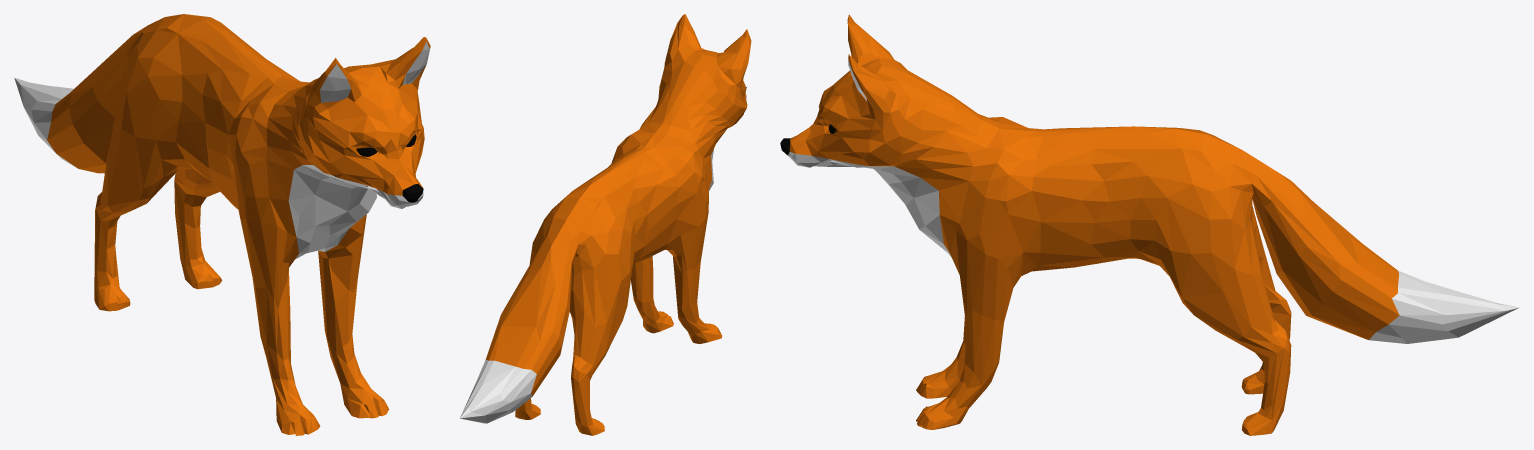
The model's file is Fox.fbx.
3 renders of one model, left to right at view 1: azimuth 30°, elevation 25°; view 2: azimuth 150°, elevation 25°; view 3: azimuth 270°, elevation 25°, orthographic. The views are drawn at different scales.
Parts seen in each view (by area): view 1: Fox; view 2: Fox; view 3: Fox.
Part boxes in pixels (x1,y1,x2,y2): Fox: (14,14,430,435); Fox: (459,14,751,435); Fox: (780,14,1519,435).
Bounding box in the file's own units: 1.94 × 6.16 × 11.01.
